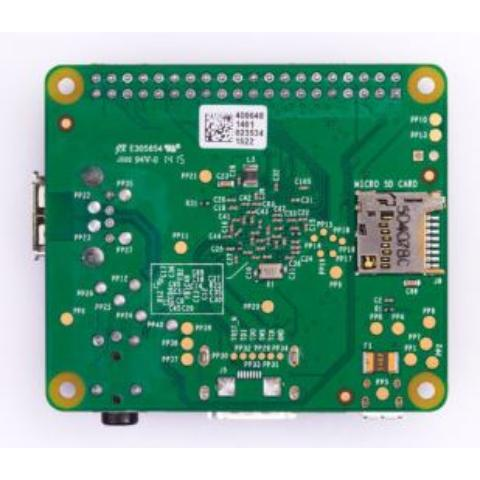Raspberry-Pi-1-Model-A-: (26, 52, 458, 434)
